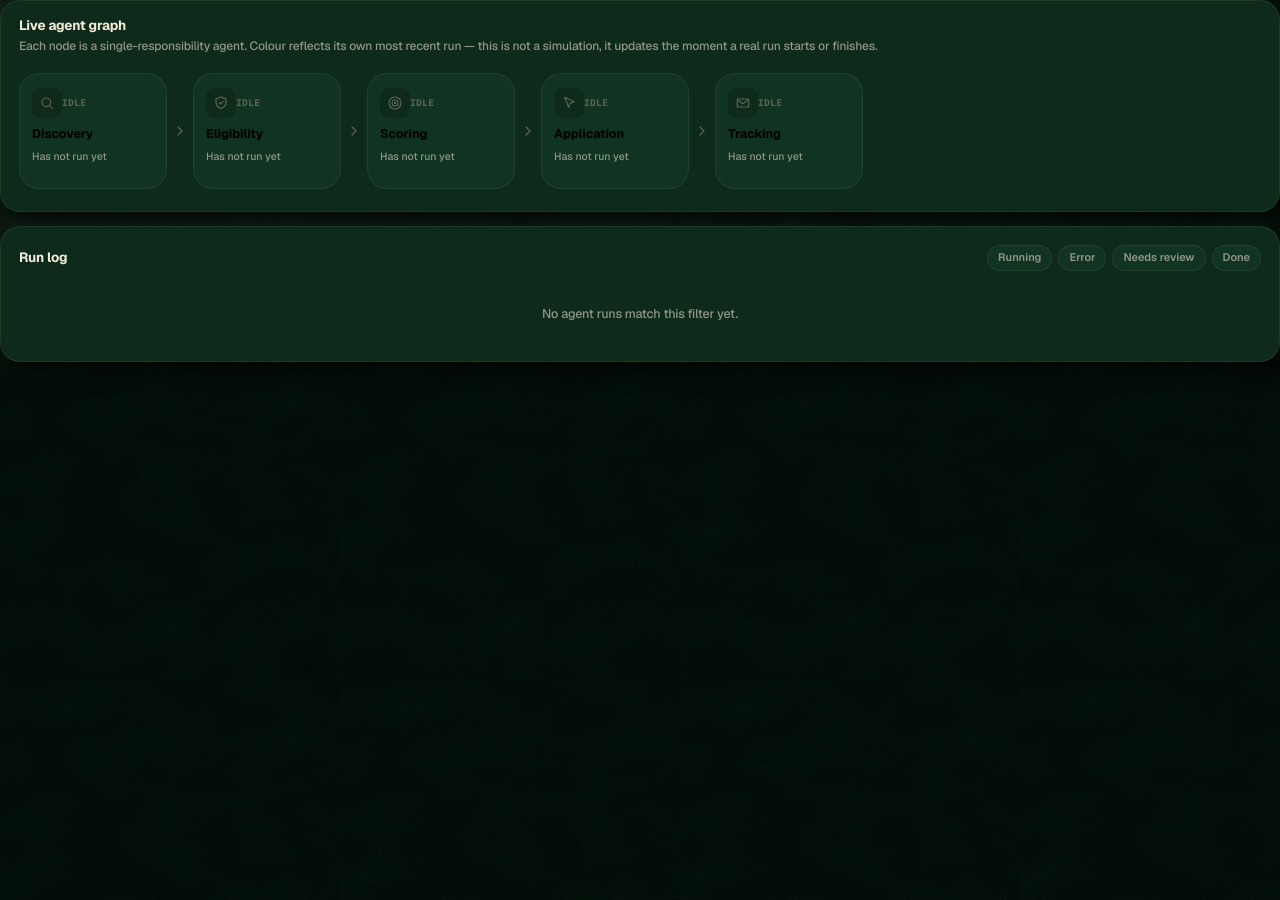
Scenario: AgentGraphView › filters the log by agent when a node is clicked
Expected: the text "No agent runs match this filter yet." is shown, x1=542 y1=304 x2=738 y2=322
Step 1. Click the text "Scoring" → click(404, 133), box x1=380 y1=126 x2=428 y2=140
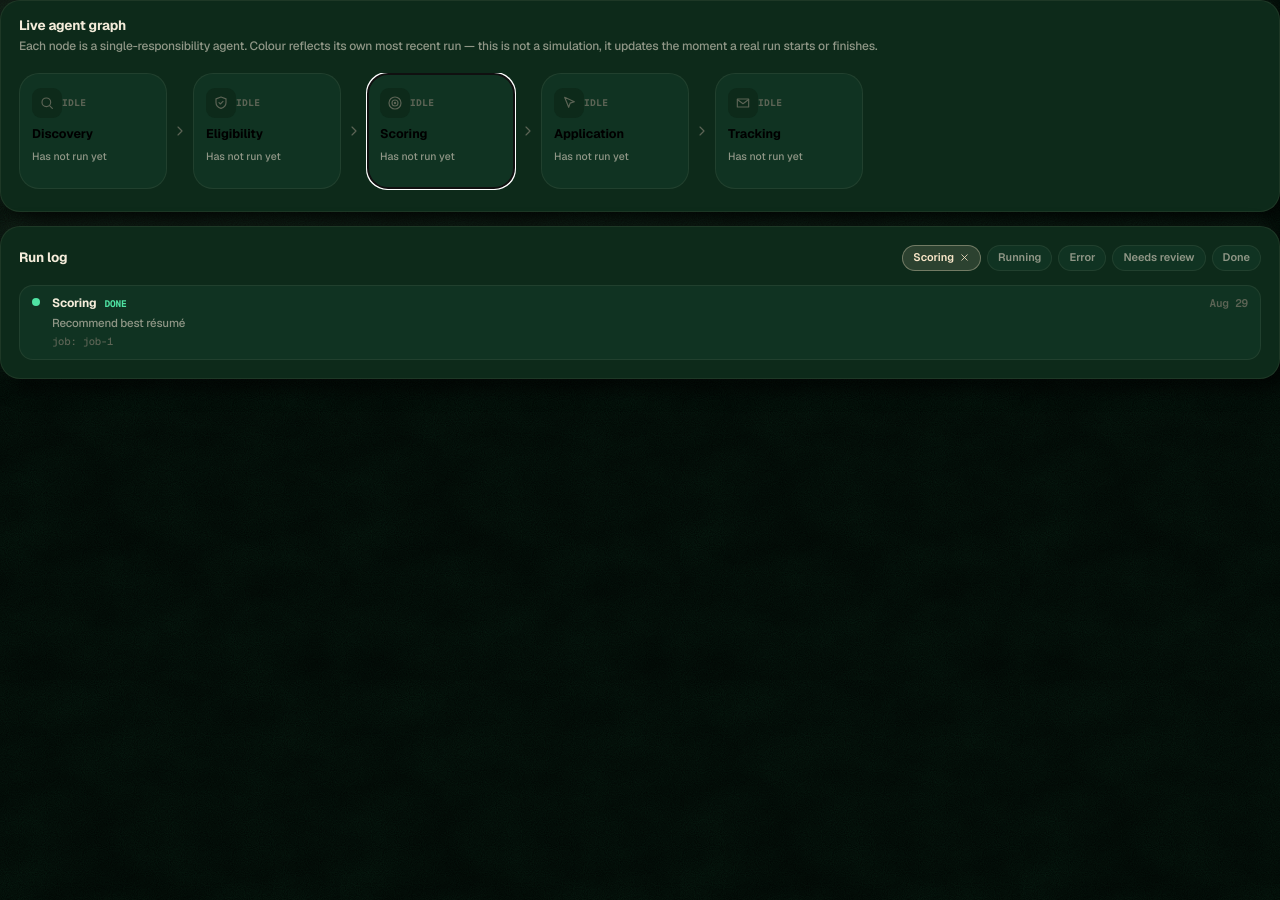
Result: the text "Recommend best résumé" is shown at x1=52 y1=315 x2=185 y2=330
